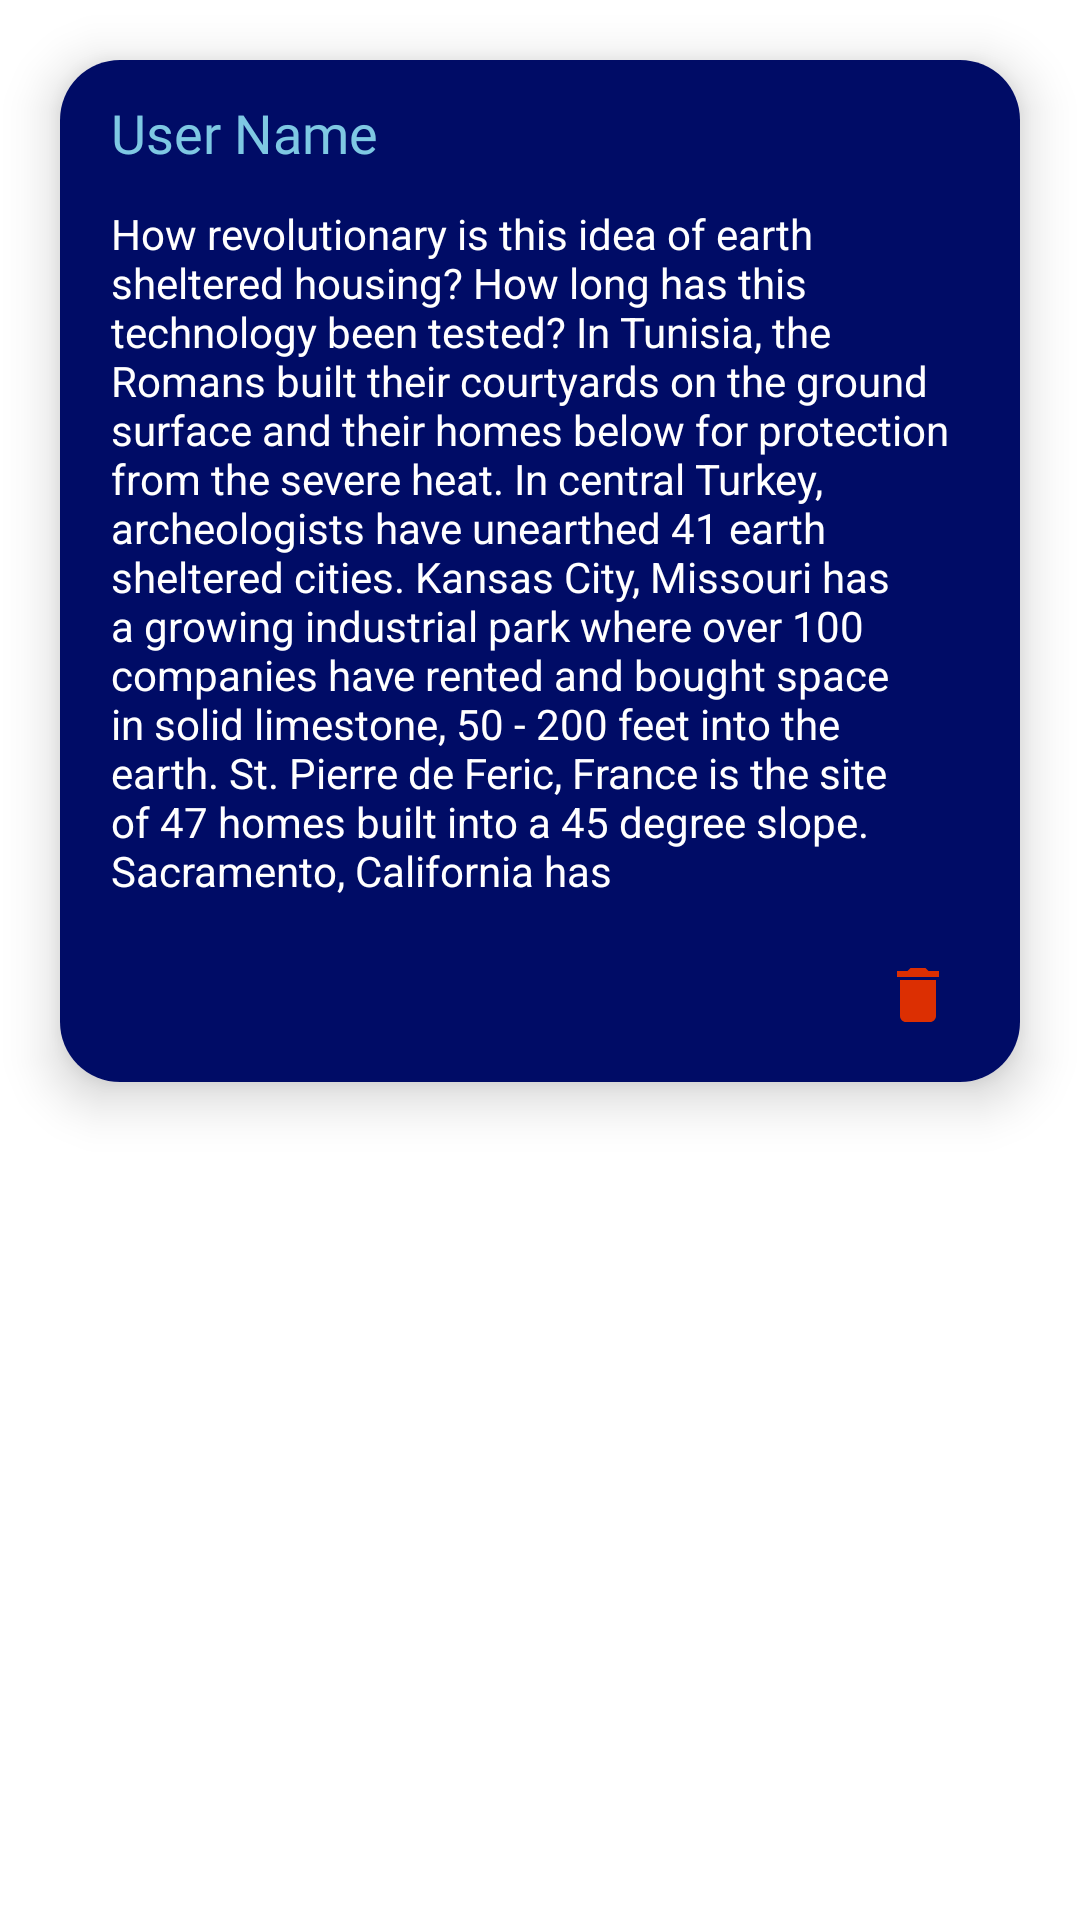

Named icons in this screenshot (1080px×1920px) and their centers, [x,y]:
delete: [918,995]
